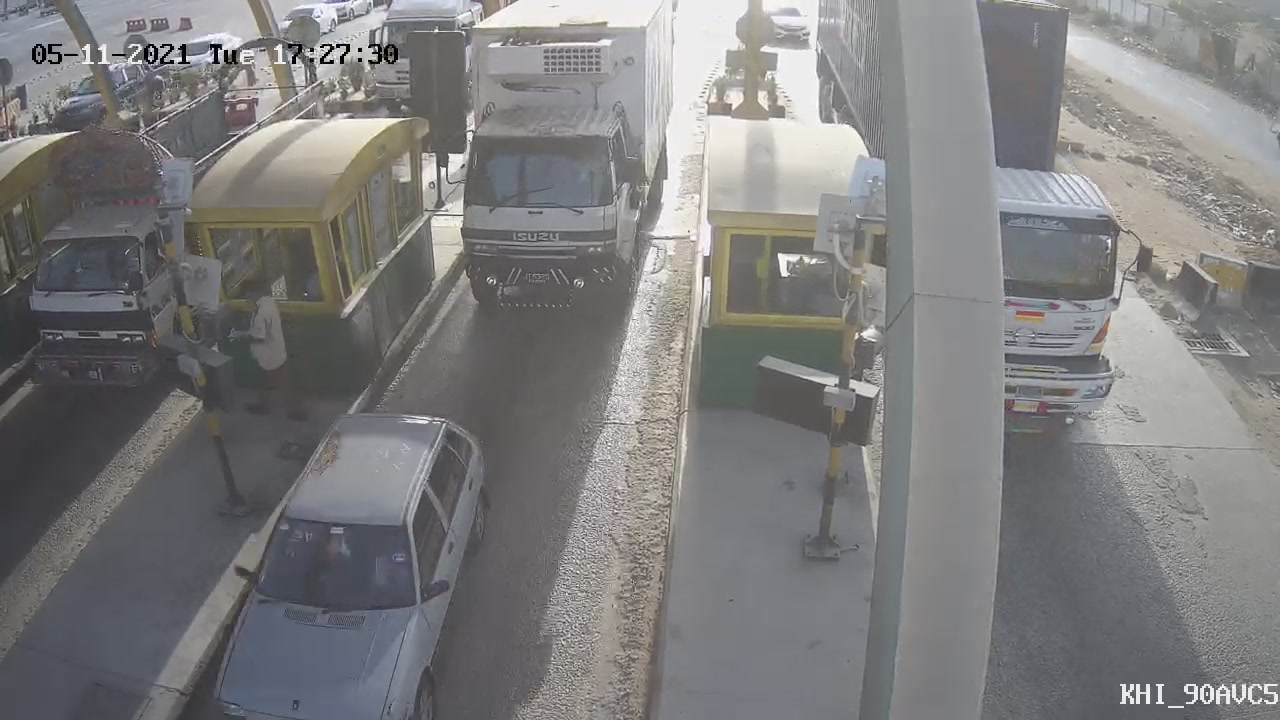F5: (422, 1, 675, 337)
